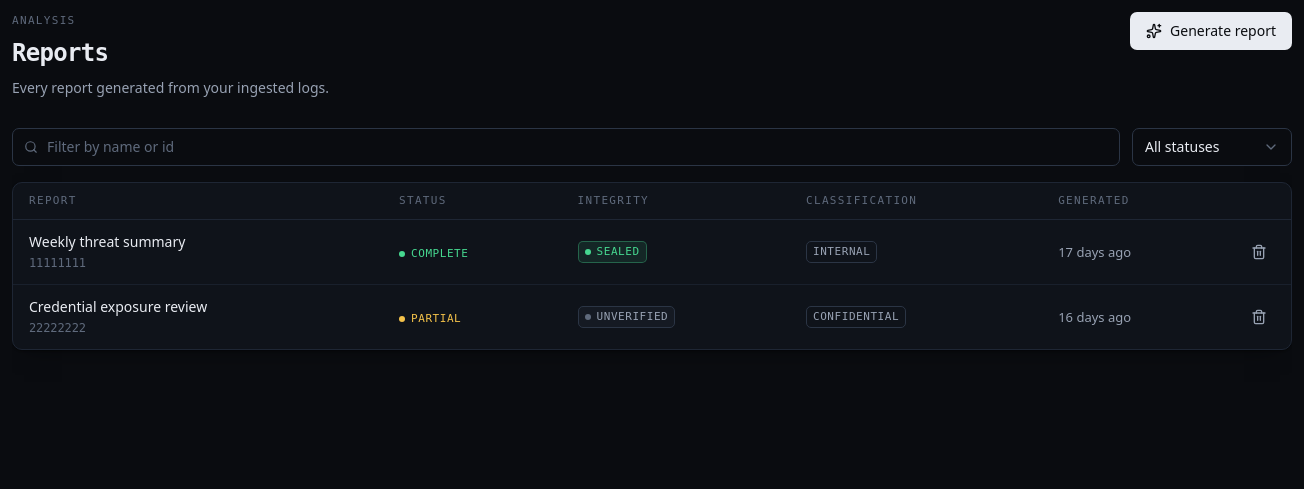
it: Reports page › says 'no matches' when a filter empties a non-empty list
The image size is (1304, 489).
Expected: the link "Weekly threat summary" is shown, [29,232,185,250]
In the field named "Filter reports": (566, 147) [12,128,1120,166], type "nothing matches this"
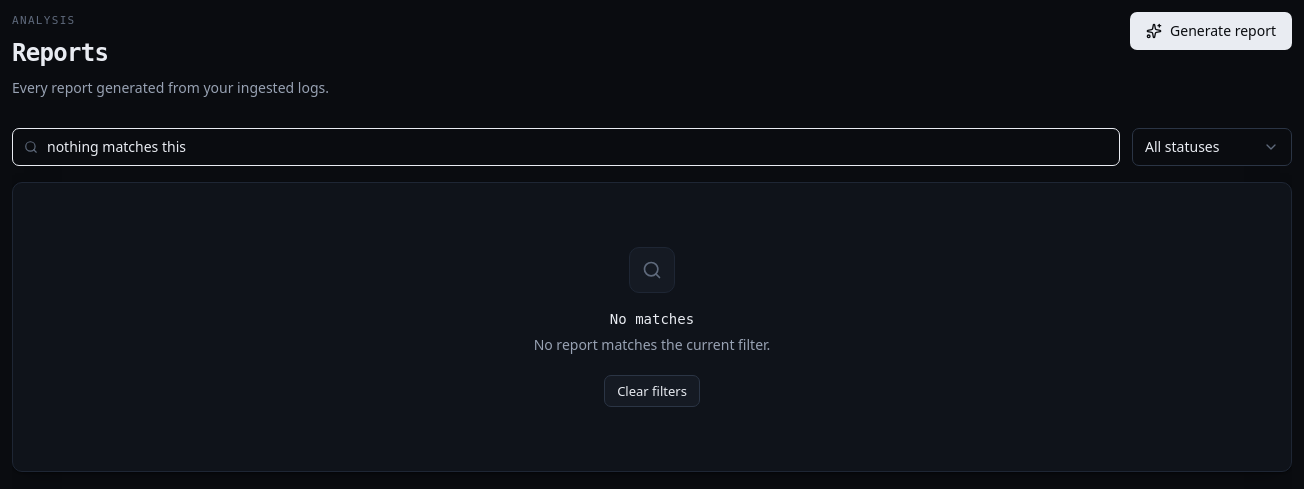
Now the text "No matches" is shown, box [610,309,694,329]
Now the button "Clear filters" is shown, box [604,375,700,407]
